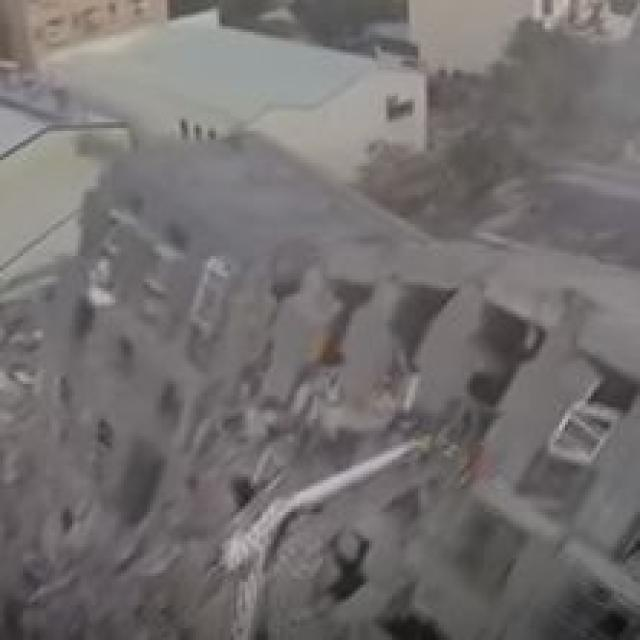collapsed_building: (87, 172, 637, 637)
